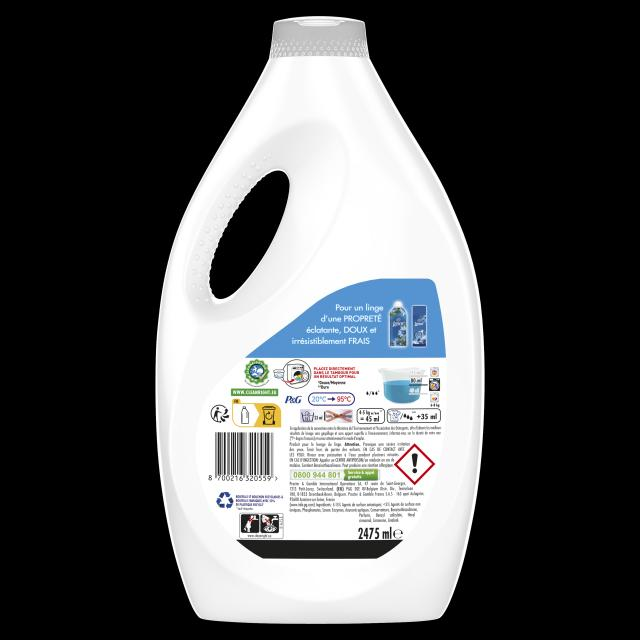GHS_Symbol_EXCLAMATION_MARK: (394, 443, 434, 485)
